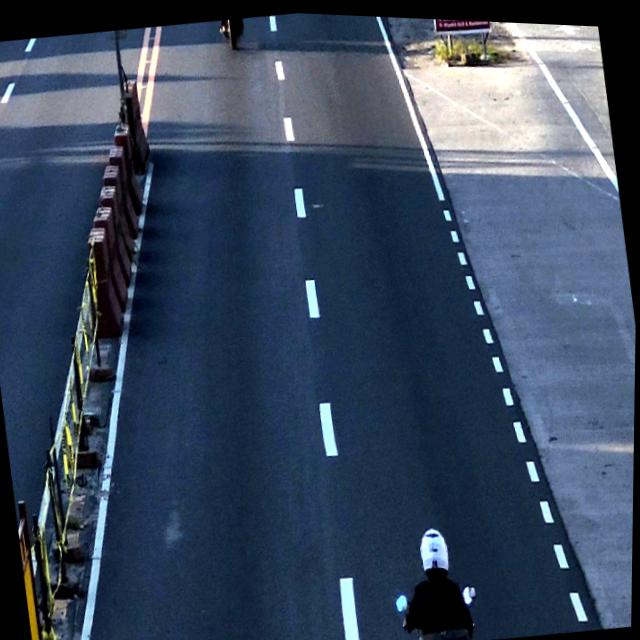Motorcycle: (392, 518, 485, 640)
